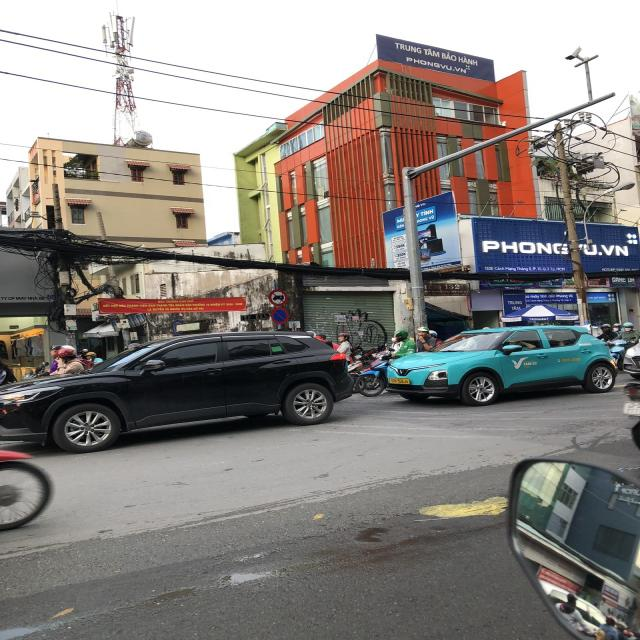Bien bao cam do xe: (269, 306, 291, 324)
Bien bao cam xe oto tai: (268, 288, 290, 308)
